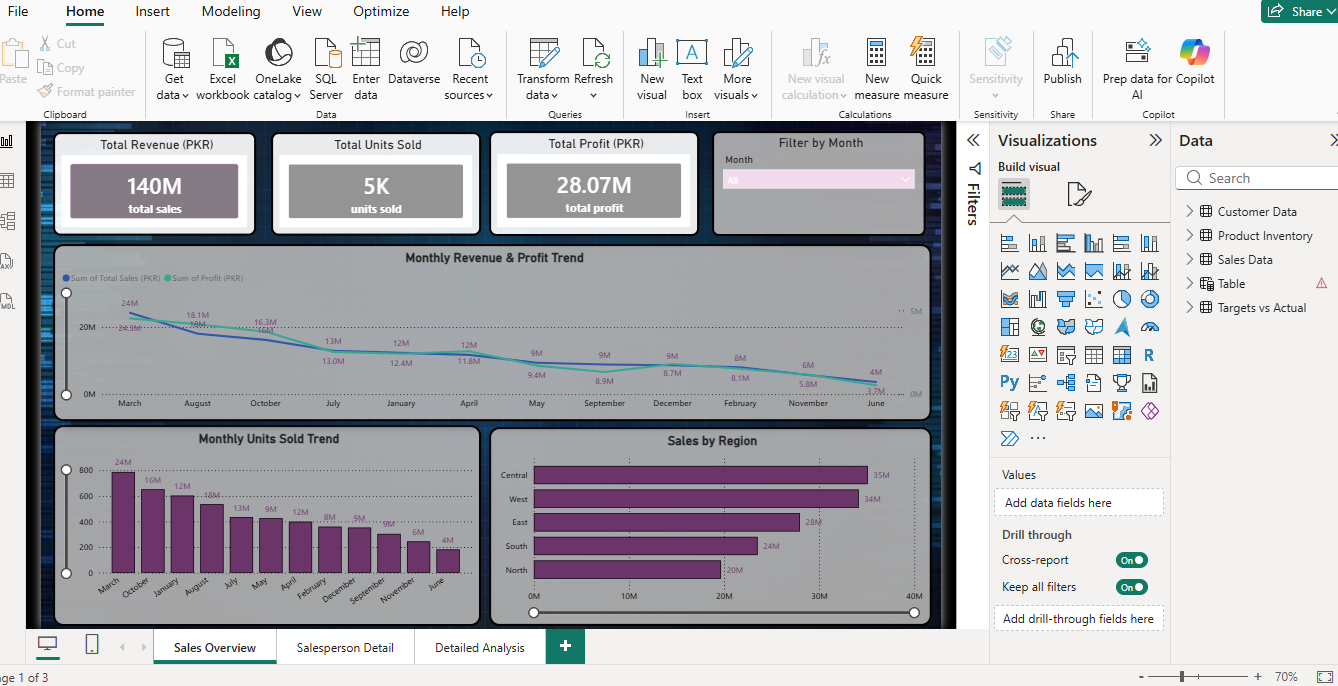

Layout of this report page (visuals, bound fields, positions):
{"tool":"powerbi","page":{"name":"Sales Overview","canvas":[1284,725],"ordinal":0},"visuals":[{"type":"barChart","title":"Sales by Region","fields":{"Category":["Sales Data.Region"],"Y":["Sum(Sales Data.Total Sales (PKR))"]},"box":[639.4,436.7,632.2,284],"z":0},{"type":"clusteredColumnChart","title":"Monthly Units Sold Trend","fields":{"Y":["Sum(Sales Data.Units Sold)"],"Category":["Sales Data.Month"]},"box":[17.1,433.9,610.8,286.9],"z":1000},{"type":"cardVisual","title":"Total Revenue (PKR)","fields":{"Data":["Sum(Sales Data.Total Sales (PKR))"]},"box":[17.1,15.7,289.7,148.4],"z":3000},{"type":"cardVisual","title":"Total Units Sold","fields":{"Data":["Sum(Sales Data.Units Sold)"]},"box":[328.3,15.8,299.5,148.3],"z":4000},{"type":"lineChart","title":"Monthly Revenue & Profit Trend","fields":{"Category":["Sales Data.Month"],"Y":["Sum(Sales Data.Total Sales (PKR))"],"Y2":["Sum(Sales Data.Profit (PKR))"]},"box":[17.1,175.5,1254.5,252.6],"z":5000},{"type":"slicer","title":"Filter by Month","fields":{"Values":["Sales Data.Month"]},"box":[957.6,14.4,305.3,149.8],"z":6000},{"type":"cardVisual","title":"Total Profit (PKR)","fields":{"Data":["Sum(Sales Data.Profit (PKR))"]},"box":[639.4,14.4,299.5,149.8],"z":7000}]}

Visuals, with their boxes on the page's 1284x725 design canvas (x1, y1, x2, y2). These are canvas units, not pixel positions in the 1338x686 screenshot, which may show the page scaled, cropped or inside an application window:
"Sales by Region" barChart: bbox=(639, 437, 1272, 721)
"Monthly Units Sold Trend" clusteredColumnChart: bbox=(17, 434, 628, 721)
"Total Revenue (PKR)" cardVisual: bbox=(17, 16, 307, 164)
"Total Units Sold" cardVisual: bbox=(328, 16, 628, 164)
"Monthly Revenue & Profit Trend" lineChart: bbox=(17, 176, 1272, 428)
"Filter by Month" slicer: bbox=(958, 14, 1263, 164)
"Total Profit (PKR)" cardVisual: bbox=(639, 14, 939, 164)
